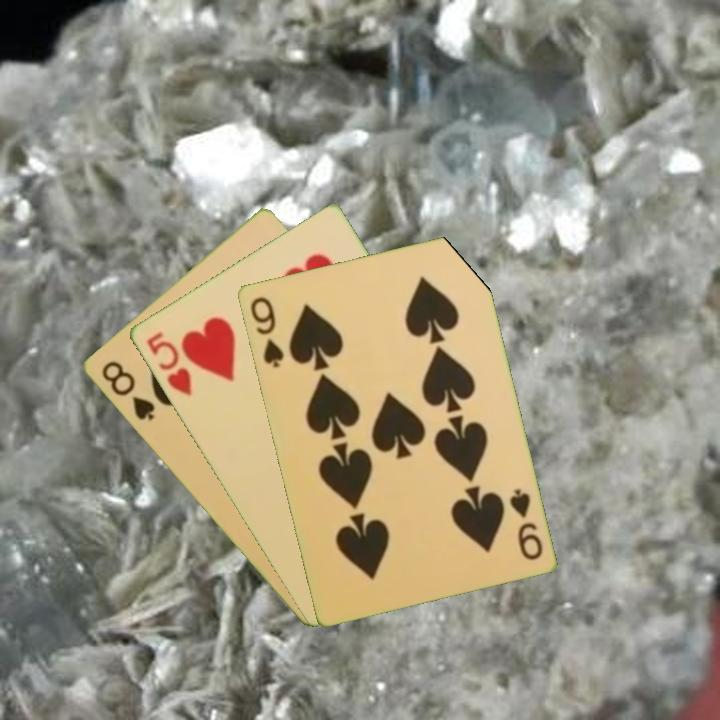5h: (142, 327, 194, 399)
8s: (97, 357, 157, 424)
9s: (505, 485, 545, 563), (246, 293, 286, 370)
